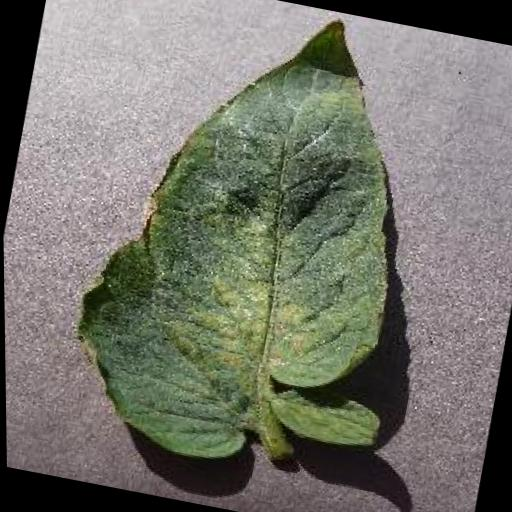Spider Mites: (52, 0, 457, 488)
